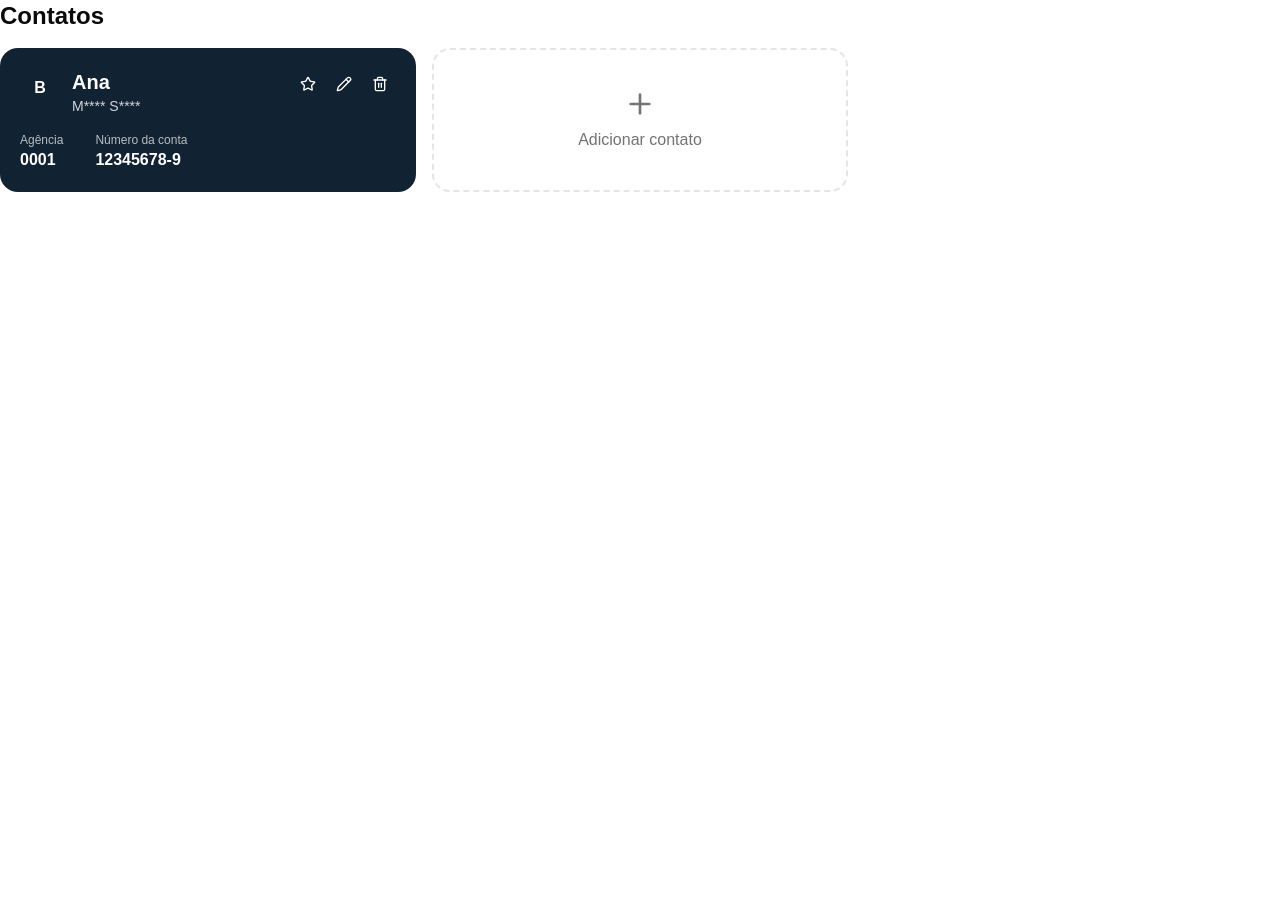
Scenario: lista de contatos › renomear REFAZ a lista com o apelido novo
The image size is (1280, 900).
Expected: the text "Ana" is shown, [72,71,110,93]
Click the button named "Renomear".
click(344, 84)  # box [328,68,360,100]
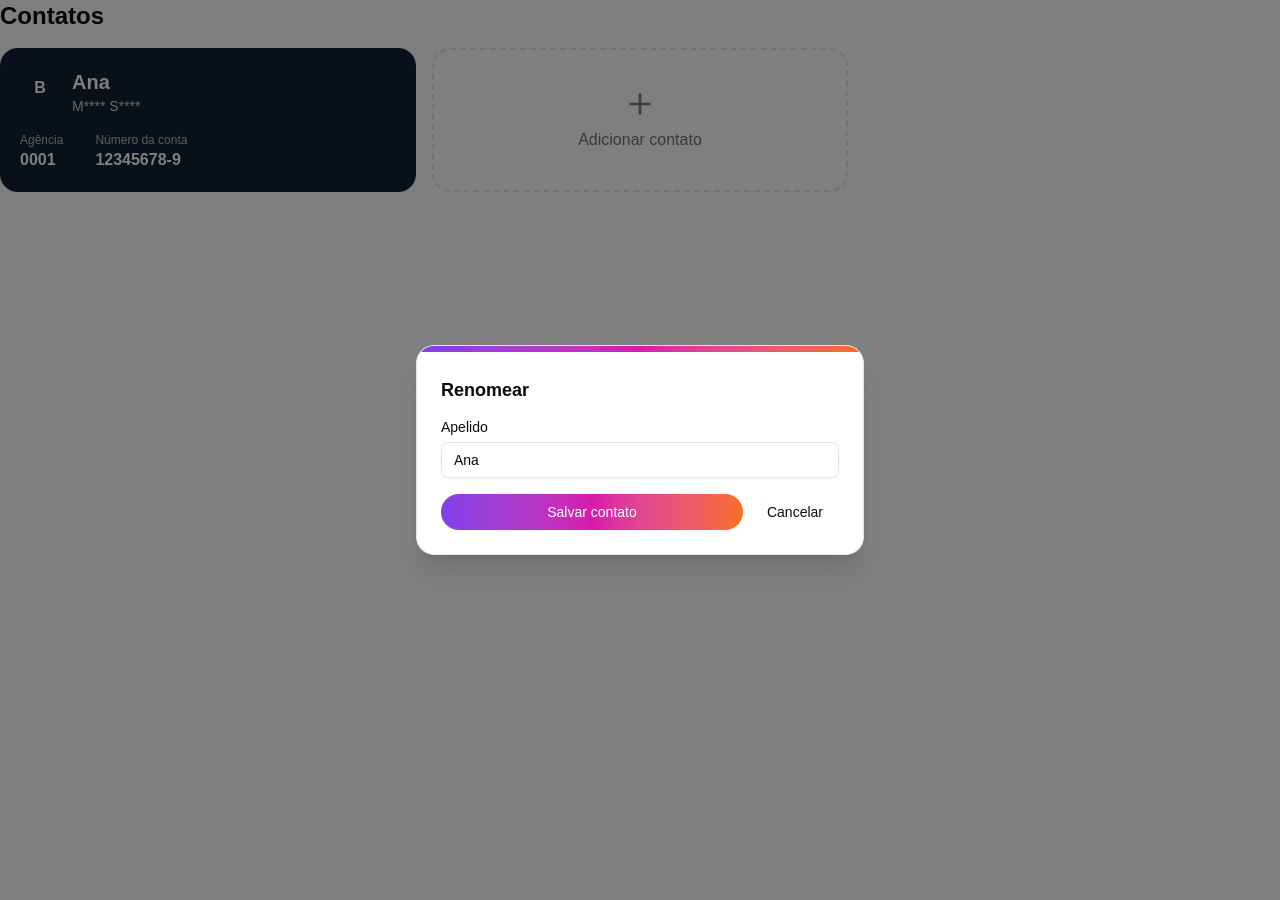
Replace the text in the field labelled "Apelido" with "Ana Maria" at (640, 460), box [441,442,839,478]
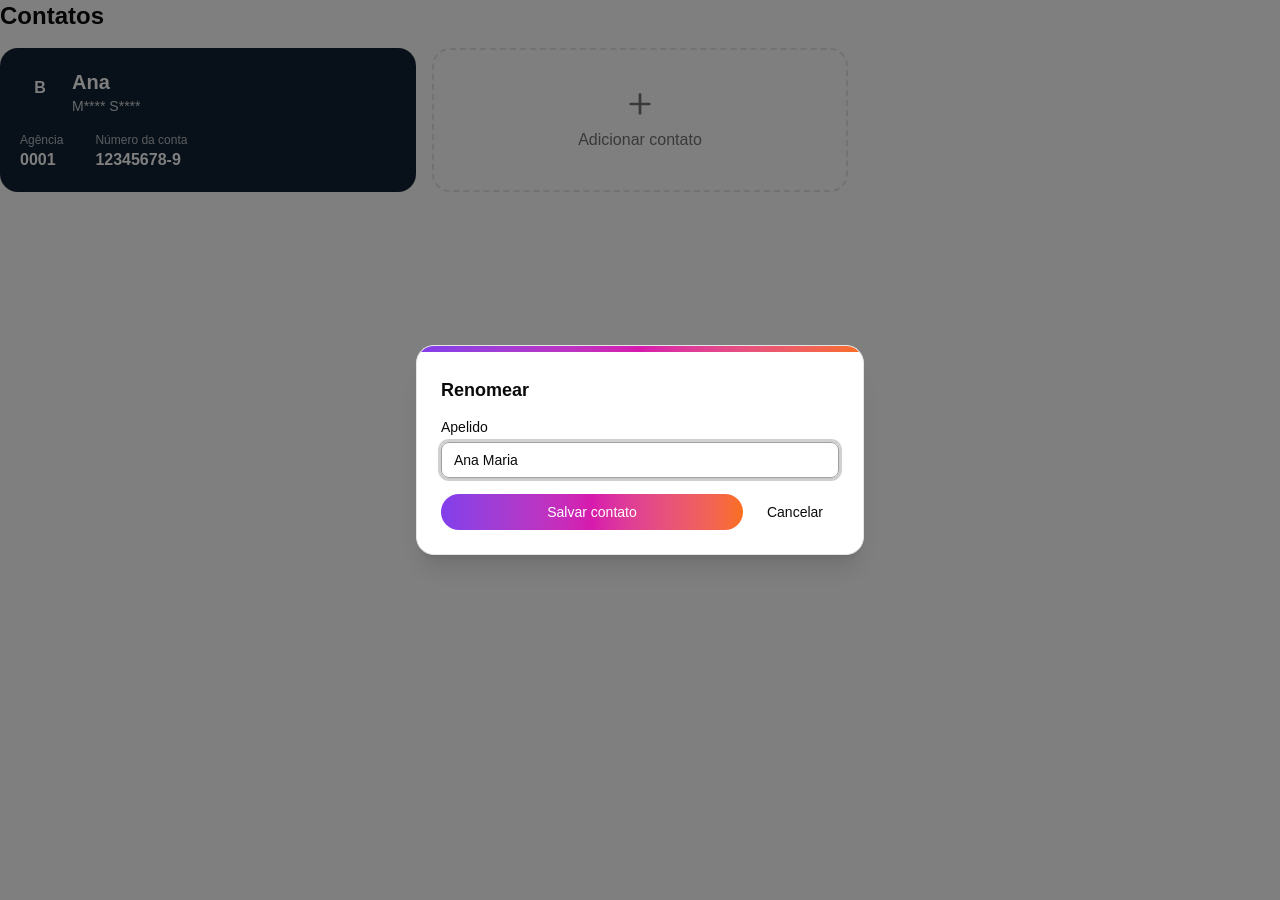
Click the button "Salvar contato".
click(592, 512)  # box [441,494,743,530]
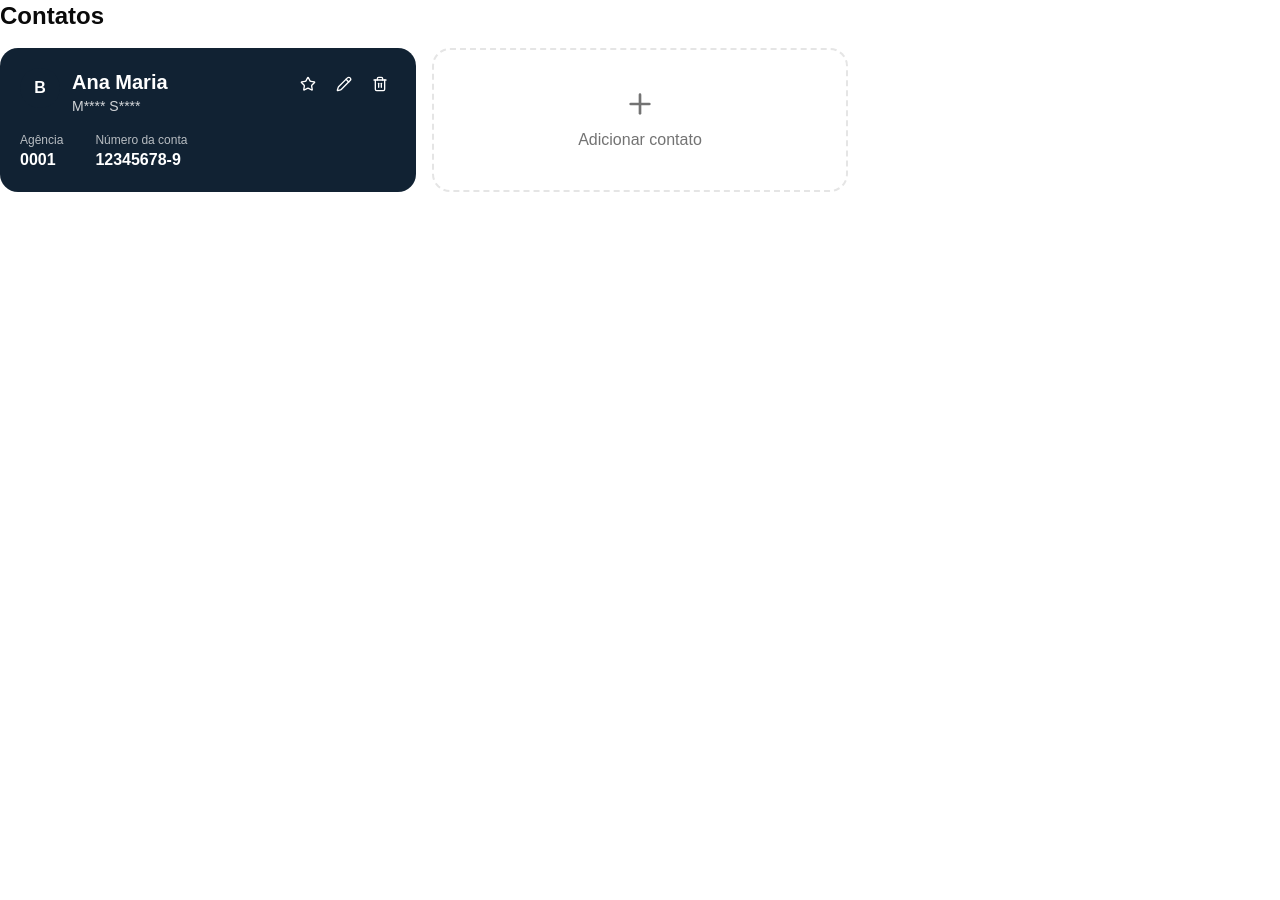
Now the text "Ana Maria" is shown, box [72,71,168,93]
